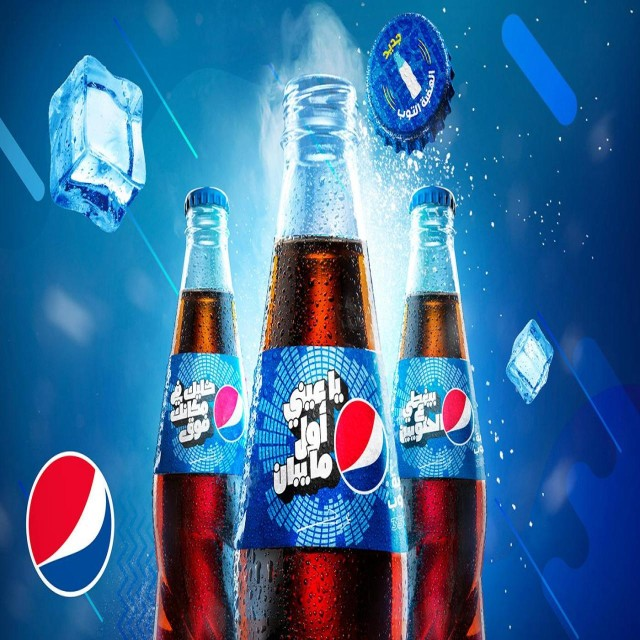pepsi: (26, 452, 116, 596), (334, 397, 392, 495), (441, 386, 477, 448), (213, 384, 245, 444)
